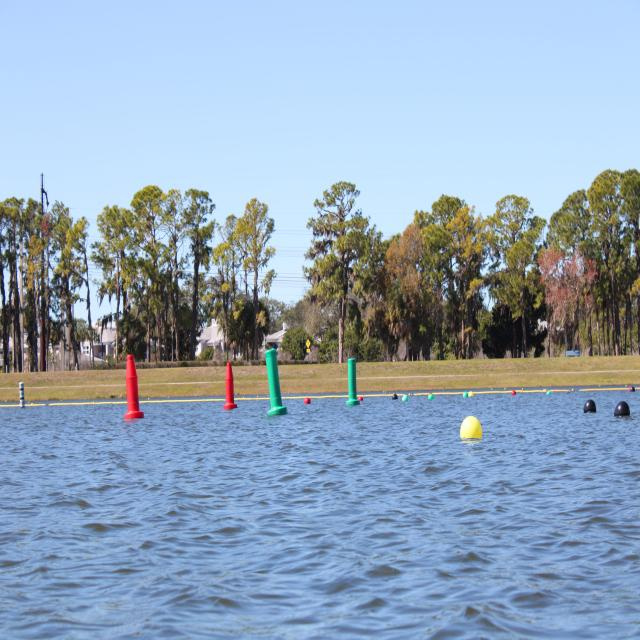black-buoy: (616, 401, 632, 420), (585, 400, 598, 416)
green-buoy: (402, 394, 408, 402)
green-column-buoy: (267, 348, 289, 417), (347, 357, 359, 406)
red-buoy: (306, 396, 312, 404)
red-column-buoy: (125, 353, 144, 420), (223, 362, 236, 410)
yellow-buoy: (463, 415, 485, 441)
